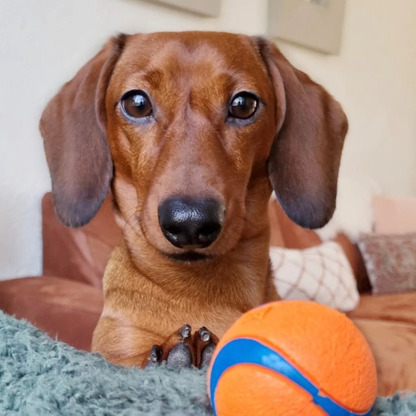dachshund: (36, 24, 339, 351)
